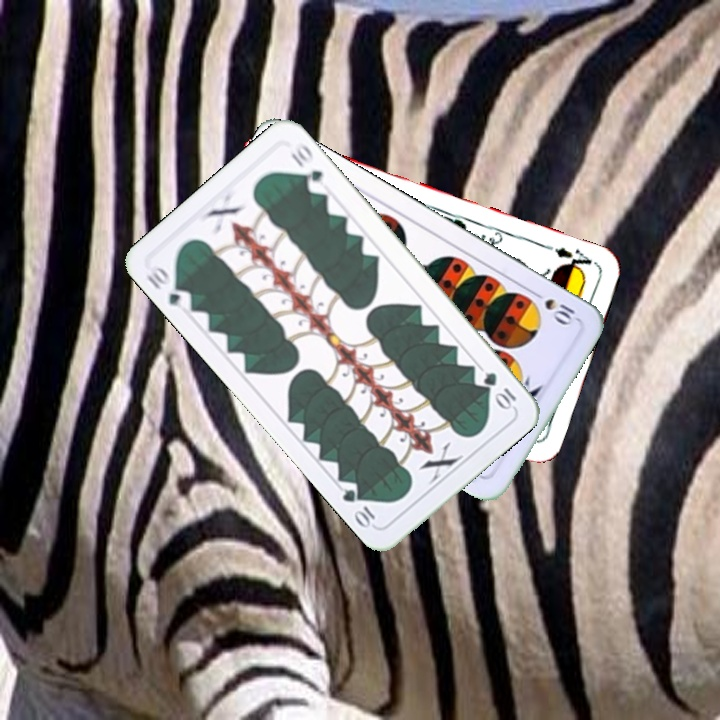EA: (540, 241, 594, 276)
G10: (142, 261, 195, 314), (479, 368, 519, 412)
S10: (527, 286, 580, 328)
